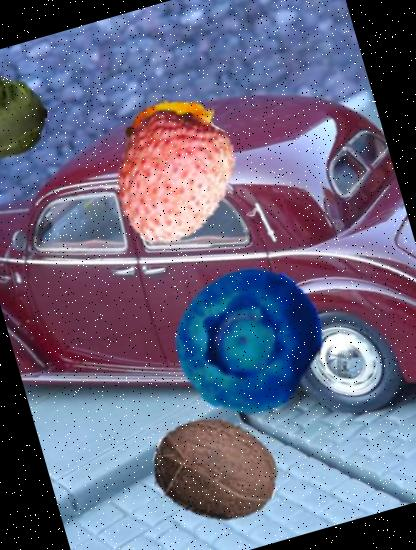Carambula: (110, 73, 232, 195)
Cocos: (136, 395, 293, 550)
Huckleberry: (156, 247, 340, 431)
Kohlrabi: (0, 56, 58, 175)
Lychee: (86, 94, 254, 260)
